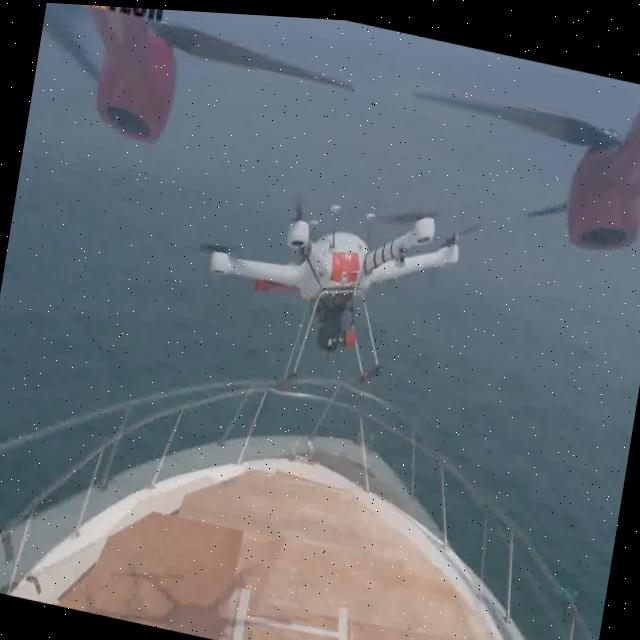drone: (183, 151, 472, 403)
